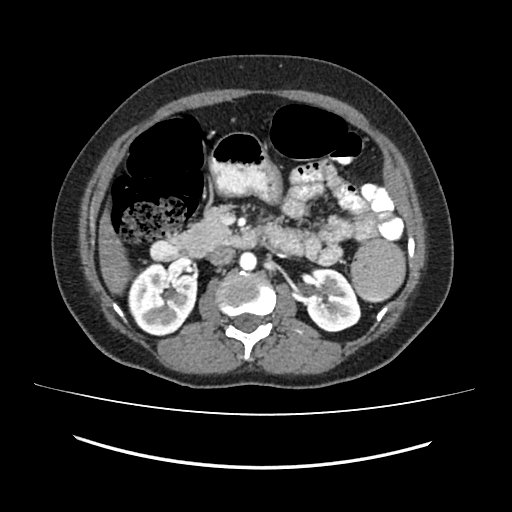aorta: (239, 257, 252, 271)
